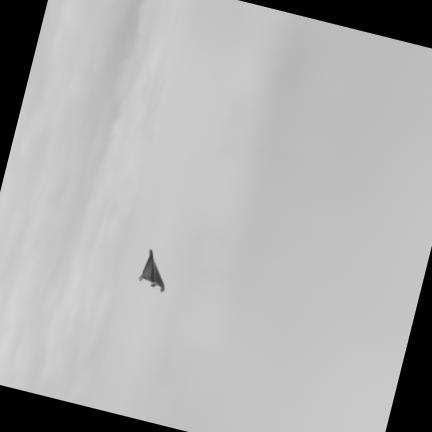Shahed: (138, 248, 165, 291)
